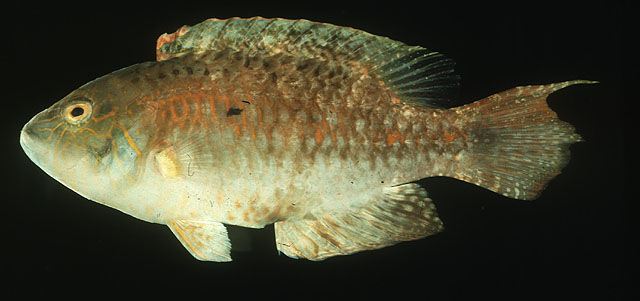fish: (19, 17, 601, 262)
